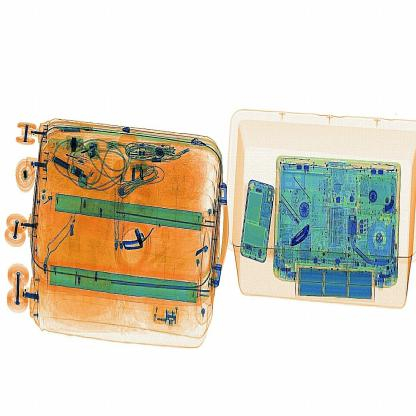knife: (290, 216, 313, 248)
